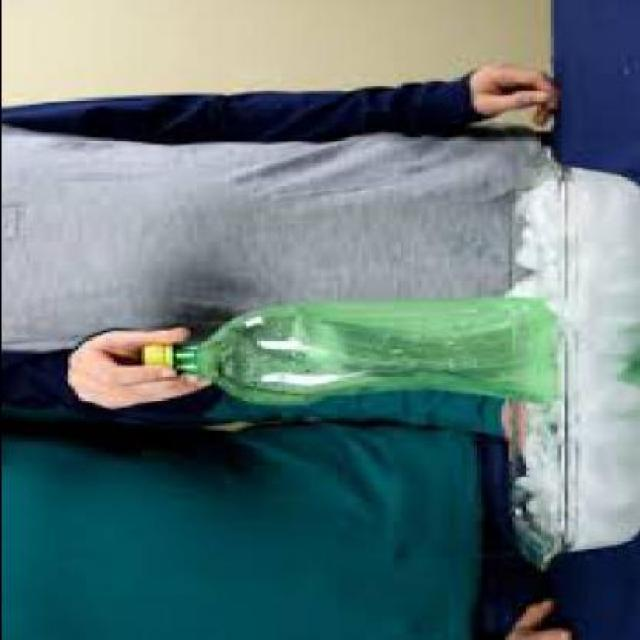GLASS: (489, 144, 637, 568)
PLASTIC: (136, 296, 636, 398), (137, 342, 168, 366)
